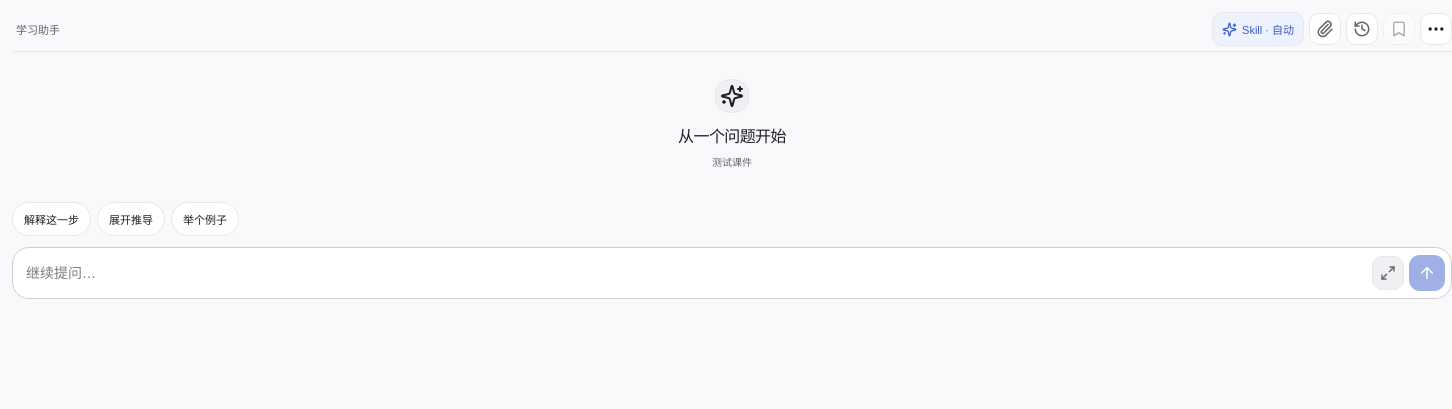
Test: 回答与公式显示 › 回答尚未结束时就显示已收到的文字
Type "解释公式" into the text box named "向学习助手提问".
click(693, 273); type("解释公式")  # box [19,254,1367,292]
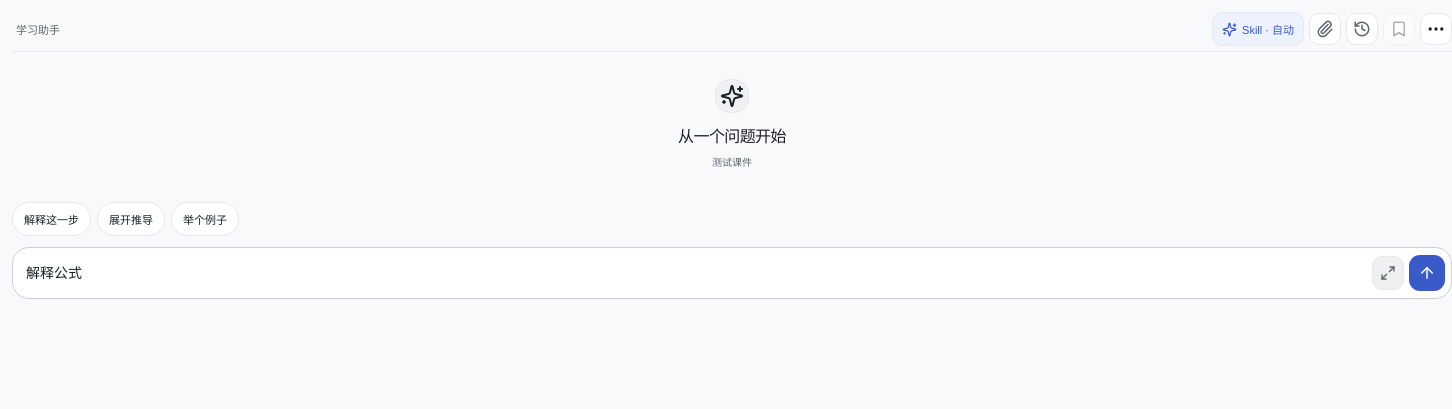
Click the button named "发送问题".
click(1427, 273)  # box [1409,255,1445,291]
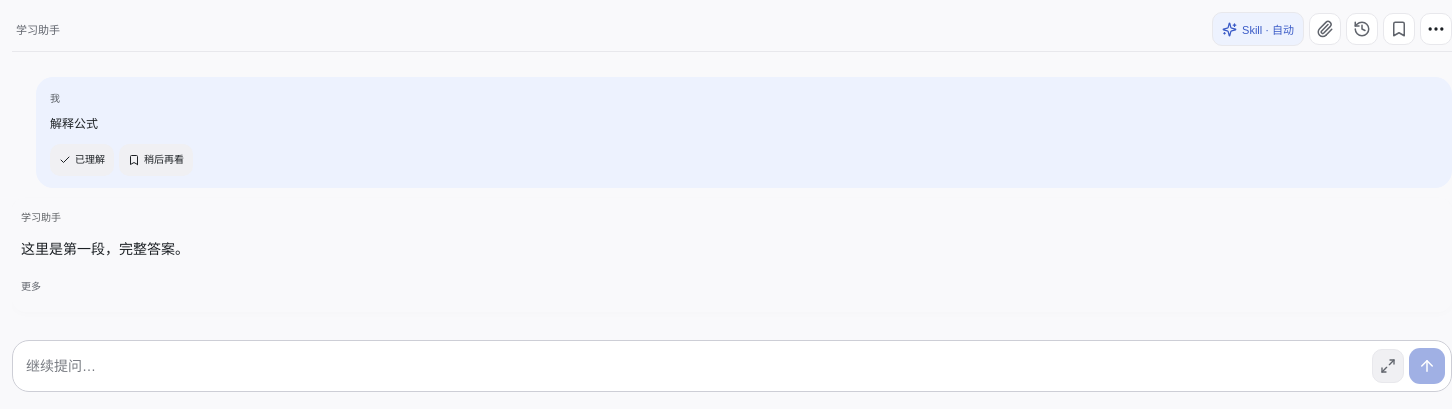
Expected: the button named "停止生成" is shown, [1409,348,1445,384]
Expected: the text "这里是第一段，完整答案。" is shown, [21,241,189,257]
